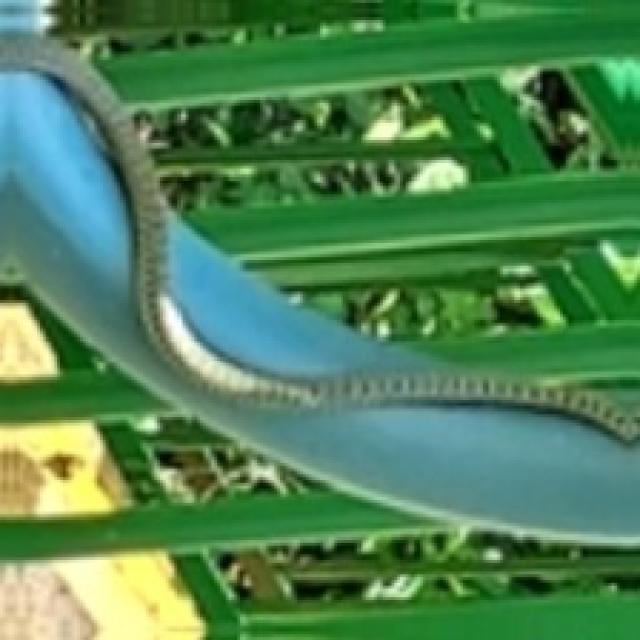paradise tree snake: (0, 37, 637, 543), (123, 17, 637, 106)
